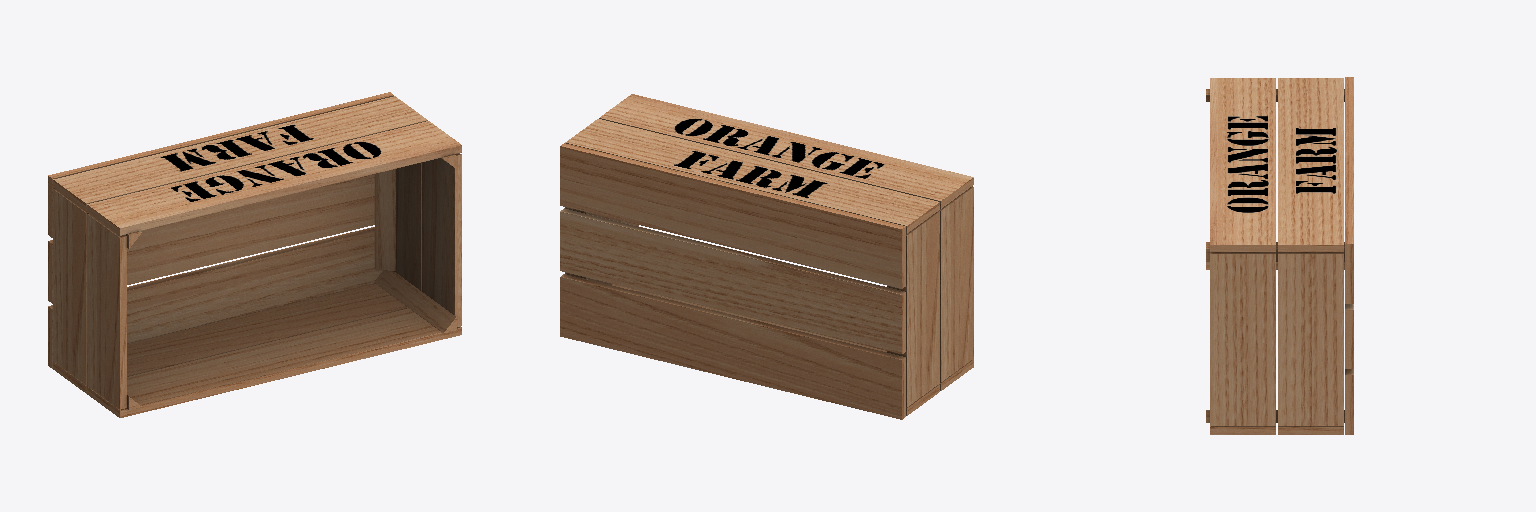
3 views of the same model, side by side, from view 1: azimuth 30°, elevation 25°; view 2: azimuth 150°, elevation 25°; view 3: azimuth 270°, elevation 25° (orthographic).
Parts seen in each view (by area): view 1: 14028_wood_fruit_crate_SG; view 2: 14028_wood_fruit_crate_SG; view 3: 14028_wood_fruit_crate_SG.
Part boxes in pixels (x1,y1,x2,y2): 14028_wood_fruit_crate_SG: (48,92,461,417); 14028_wood_fruit_crate_SG: (560,94,973,419); 14028_wood_fruit_crate_SG: (1206,77,1353,434).
Bounding box in the file's own units: 60 × 31.93 × 22.43.
1 materials, 1 textured.